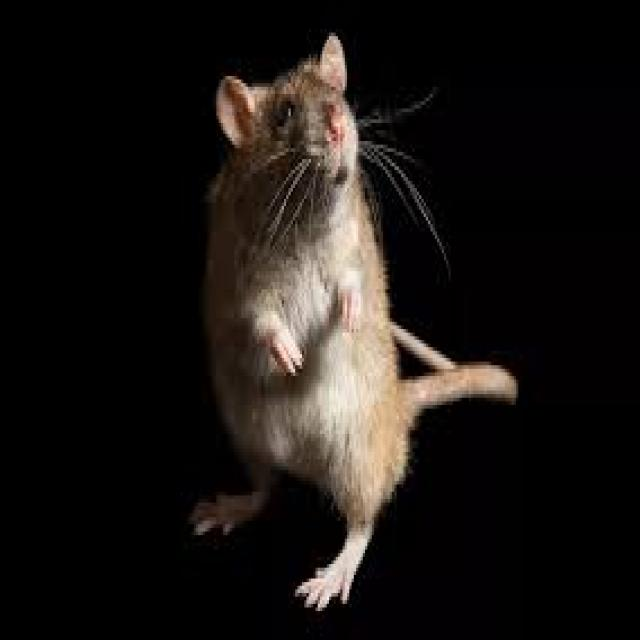rat: (185, 29, 518, 611)
